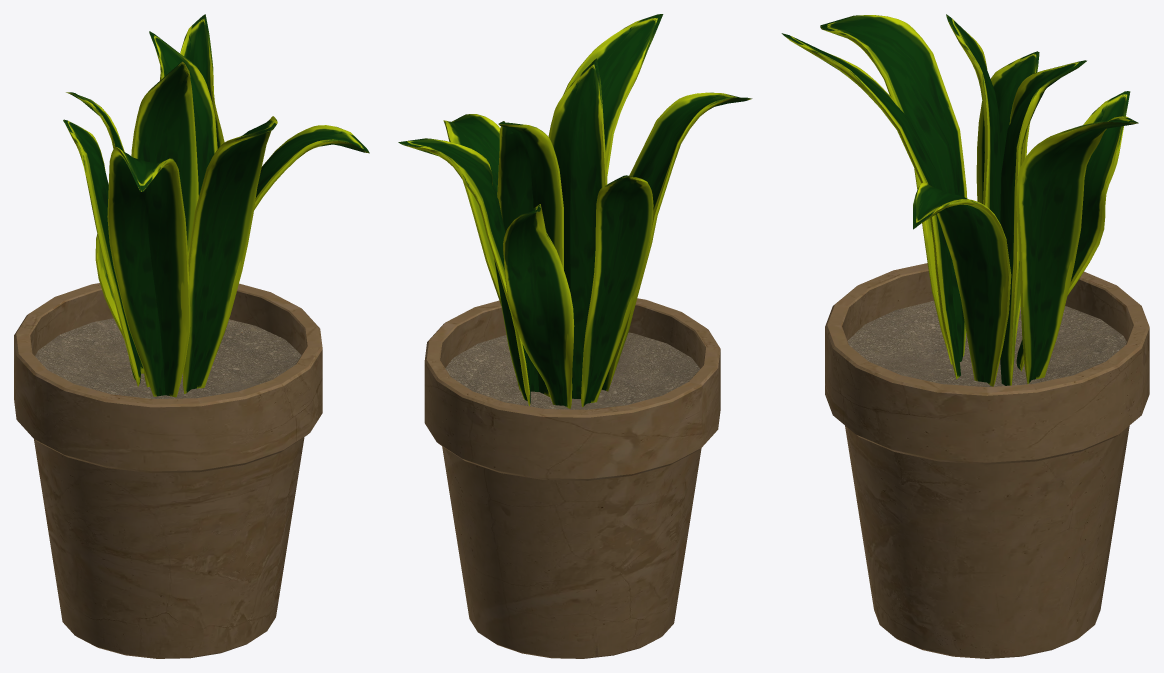
Rendered from plant-transformed.glb.
3 renders of one model, left to right at view 1: azimuth 30°, elevation 25°; view 2: azimuth 150°, elevation 25°; view 3: azimuth 270°, elevation 25°, orthographic. The views are drawn at different scales.
Parts seen in each view (by area): view 1: Plant; view 2: Plant; view 3: Plant.
Part boxes in pixels (box(x1,y1,x2,y2)): Plant: box(14, 14, 369, 658); Plant: box(398, 14, 752, 658); Plant: box(781, 14, 1149, 658).
Bounding box in the file's own units: 0.1611 × 0.2915 × 0.1635.
3 materials, 3 textured.
